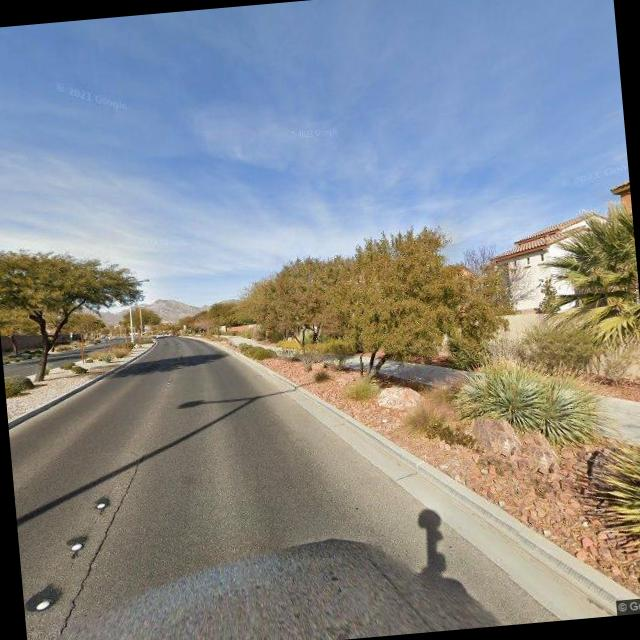pothole: (16, 456, 158, 640)
